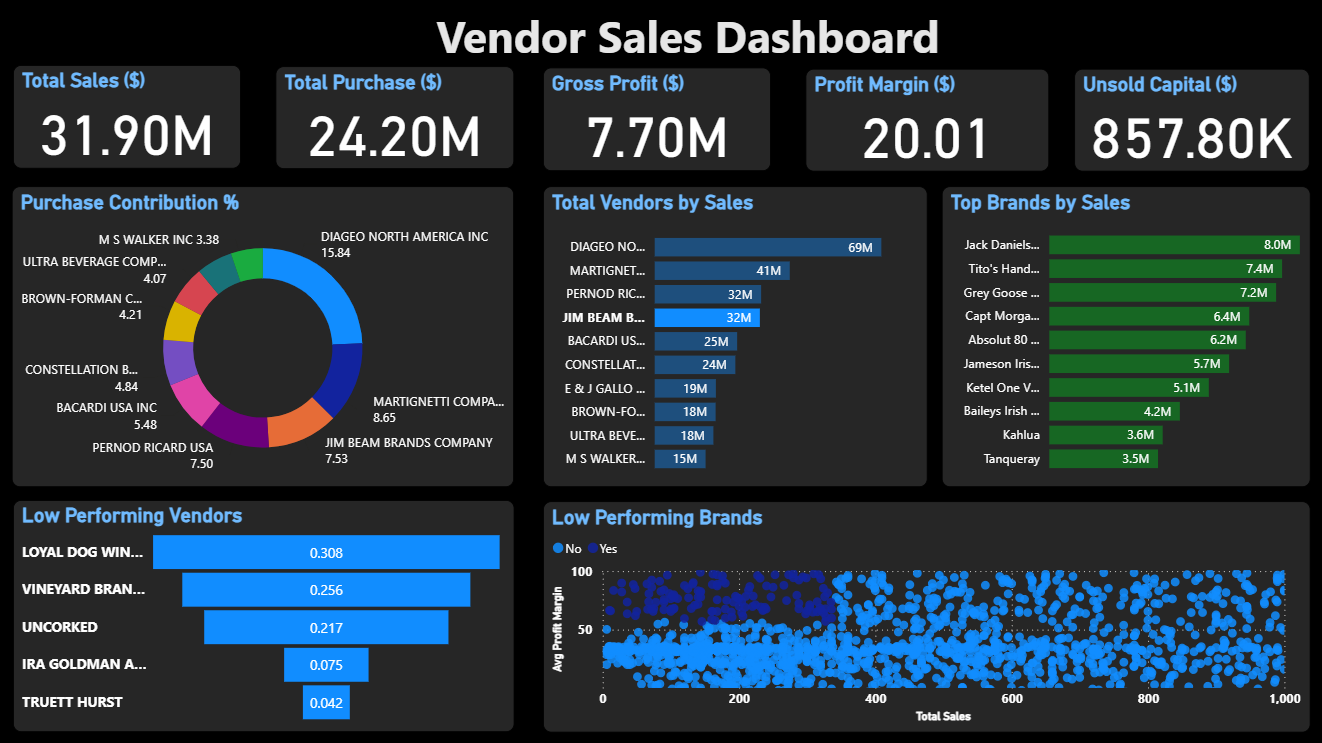

Layout of this report page (visuals, bound fields, positions):
{"tool":"powerbi","page":{"name":"Page 1","canvas":[1280,720],"ordinal":0},"visuals":[{"type":"textbox","box":[400,0,531.7,75.6],"z":0},{"type":"card","title":"Total Sales ($)","fields":{"Values":["Sum(vendor_sales_summary.TotalSalesDollars)"]},"box":[14.2,63.3,220,100],"z":1000},{"type":"card","title":"Total Purchase ($)","fields":{"Values":["Sum(vendor_sales_summary.TotalPurchaseDollars)"]},"box":[267.5,63.4,230.1,99.5],"z":2000},{"type":"card","title":"Gross Profit ($)","fields":{"Values":["Sum(vendor_sales_summary.GrossProfit)"]},"box":[526.5,65.7,220,100],"z":3000},{"type":"card","title":"Profit Margin ($)","fields":{"Values":["Avg(vendor_sales_summary.ProfitMargin)"]},"box":[780,65.9,235.1,99.5],"z":4000},{"type":"card","title":"Unsold Capital ($)","fields":{"Values":["vendor_sales_summary.UnsoldCapital"]},"box":[1038.2,66,227.4,99],"z":5000},{"type":"donutChart","title":"Purchase Contribution %","fields":{"Y":["PurchaseContribution.PurchaseContribution%"],"Series":["PurchaseContribution.VendorName"],"Category":["PurchaseContribution.VendorName"]},"box":[13.3,179.8,507.9,294.4],"z":6000},{"type":"barChart","title":"Total Vendors by Sales","fields":{"Category":["vendor_sales_summary.VendorName"],"Y":["Sum(vendor_sales_summary.TotalSalesDollars)"]},"box":[542.9,179.8,354.7,294.4],"z":7000},{"type":"barChart","title":"Top Brands by Sales","fields":{"Category":["vendor_sales_summary.Description"],"Y":["Sum(vendor_sales_summary.TotalSalesDollars)"]},"box":[910.9,179.8,355.9,294.4],"z":8000},{"type":"funnel","title":"Low Performing Vendors","fields":{"Category":["LowTurnover.VendorName"],"Y":["Avg(LowTurnover.AvgStockTurnOver)"]},"box":[14.5,482.6,528.4,224.4],"z":9000},{"type":"scatterChart","title":"Low Performing Brands","fields":{"Category":["BrandPerformance.Description"],"X":["Sum(BrandPerformance.TotalSales)"],"Y":["Avg(BrandPerformance.AvgProfitMargin)"],"Series":["BrandPerformance.TargetBrand"]},"box":[561,483.8,705.8,223.2],"z":10000}]}

Visuals, with their boxes in screenshot pixels (x1, y1, x2, y2), scaled from the page's 1280x720 canvas onto the 1322x743 screenshot:
textbox: 413/0/962/78
"Total Sales ($)" card: 15/65/242/169
"Total Purchase ($)" card: 276/65/514/168
"Gross Profit ($)" card: 544/68/771/171
"Profit Margin ($)" card: 806/68/1048/171
"Unsold Capital ($)" card: 1072/68/1307/170
"Purchase Contribution %" donutChart: 14/186/538/489
"Total Vendors by Sales" barChart: 561/186/927/489
"Top Brands by Sales" barChart: 941/186/1308/489
"Low Performing Vendors" funnel: 15/498/561/730
"Low Performing Brands" scatterChart: 579/499/1308/730
